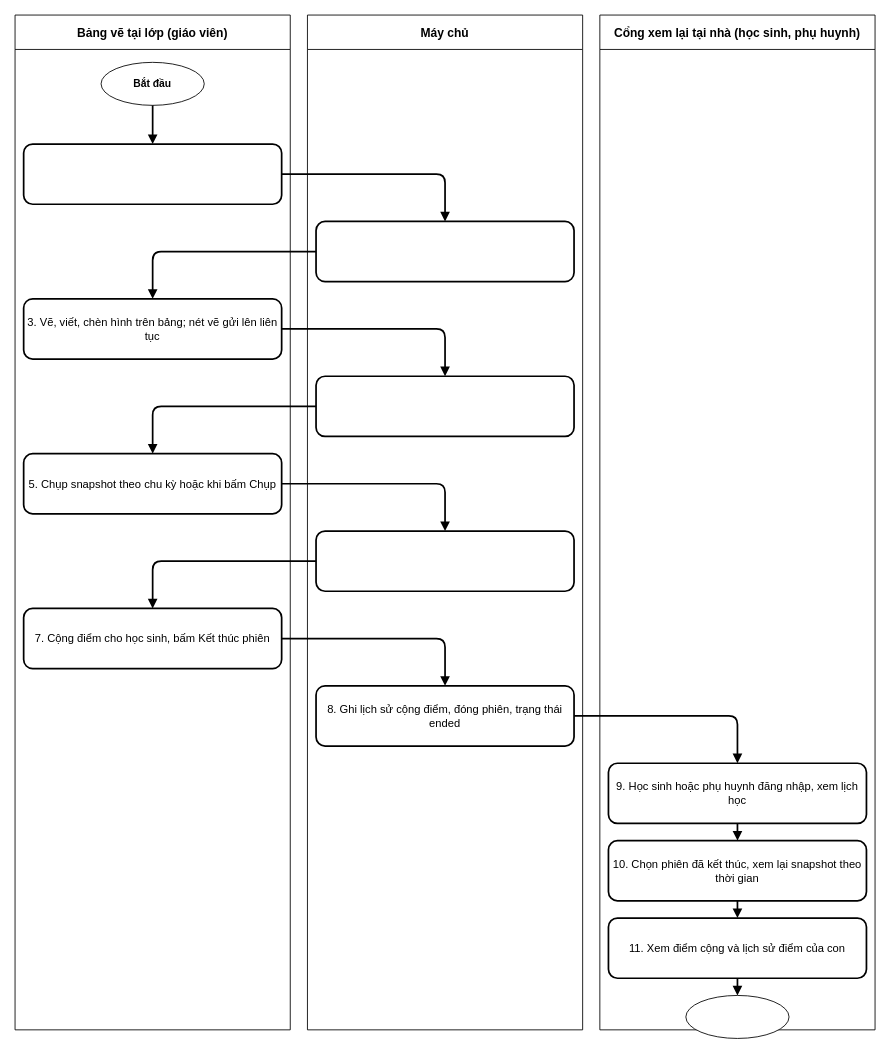
Image size: 890x1054. Some labels were removed from this diagram. Here are the shapes that lost their labels. From the top down, the centre of each, then its label:
At point 152,174: "1. Giáo viên đăng nhập, chọn lớp, bấm Bắt đầu phiên học".
At point 444,251: "2. Tạo phiên: cấp session_id và room_id riêng cho lớp, trạng thái active".
At point 444,406: "4. Nhận nét vẽ, lưu theo room_id của lớp".
At point 444,561: "6. Lưu snapshot (ảnh và dữ liệu) vào phiên".
At point 737,1016: "Kết thúc".
